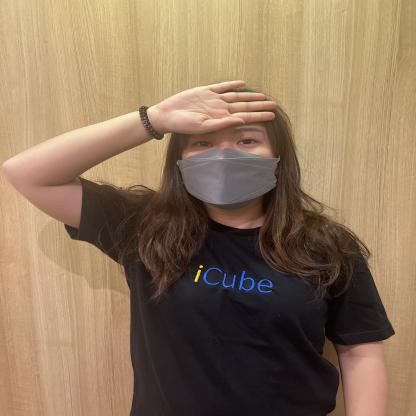Sick: (42, 53, 328, 149)
